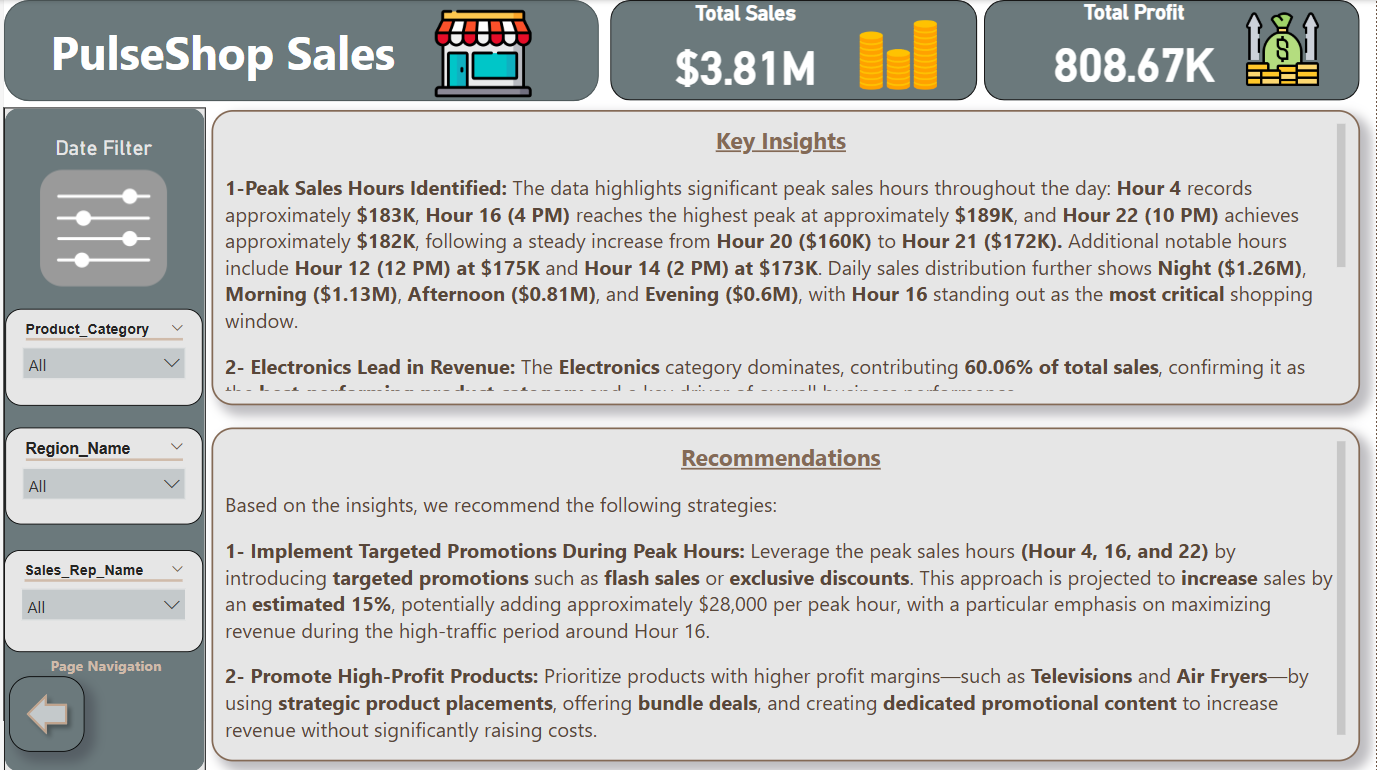

The page's visual inventory and layout, read from the dashboard file:
{"tool":"powerbi","page":{"name":"Insights & Recommendations","canvas":[1280,720],"ordinal":3},"visuals":[{"type":"shape","box":[0,0,554.3,94.3],"z":0,"group":"g3"},{"type":"shape","box":[564.1,0,342.5,93.8],"z":0,"group":"g2"},{"type":"shape","box":[914,0.4,350,93.6],"z":0,"group":"g1"},{"type":"shape","box":[0,100,188,620],"z":0},{"type":"group","id":"g1","title":"Group 1","box":[913.8,0,350,93.8],"z":1000},{"type":"card","title":"Total Profit","fields":{"Values":["Sum(Fact_Orders.Profit)"]},"box":[913.8,0,280,90.3],"z":1000,"group":"g1"},{"type":"card","title":"Total Sales","fields":{"Values":["Dax_meas.Total_Sales"]},"box":[558.8,1.2,264.3,95.1],"z":1000,"group":"g2"},{"type":"textbox","box":[38.6,14.3,381.4,88.6],"z":1000,"group":"g3"},{"type":"image","box":[338.6,0,215.7,100],"z":2000,"group":"g3"},{"type":"group","id":"g2","title":"Group 1","box":[558.8,0,347.8,96.3],"z":2000},{"type":"slicer","fields":{"Values":["Dim_Products.Product_Category"]},"box":[1.2,287.5,184.1,90.2],"z":3000},{"type":"slicer","fields":{"Values":["Dim_Regions.Region_Name"]},"box":[1.2,398.2,184.1,90.2],"z":4000},{"type":"slicer","fields":{"Values":["Dim_Sales_Reps.Sales_Rep_Name"]},"box":[0,512.5,185.3,95],"z":5000},{"type":"shape","box":[4.3,630,70,70],"z":6000},{"type":"image","box":[762.9,14.3,141.4,74.3],"z":7000},{"type":"image","box":[1120,5.7,144.3,80],"z":8000},{"type":"image","title":"Date Filter","box":[0,127.1,185.7,150],"z":9000},{"type":"group","id":"g3","title":"Group 3","box":[0,0,554.3,102.9],"z":10000},{"type":"textbox","box":[193.8,102.5,1070,275],"z":12000},{"type":"textbox","box":[193.8,398.8,1070,311.2],"z":13000},{"type":"textbox","box":[38.8,606.2,128.8,27.5],"z":14000}]}

Visuals, with their boxes in screenshot pixels (x1, y1, x2, y2), scaled from the page's 1280x720 canvas onto the 1377x770 screenshot:
shape: 0:0:596:101
shape: 607:0:975:100
shape: 983:0:1360:101
shape: 0:107:202:769
"Group 1" group: 983:0:1360:100
"Total Profit" card: 983:0:1284:97
"Total Sales" card: 601:1:885:103
textbox: 42:15:452:110
image: 364:0:596:107
"Group 1" group: 601:0:975:103
slicer - Dim_Products.Product_Category: 1:307:199:404
slicer - Dim_Regions.Region_Name: 1:426:199:522
slicer - Dim_Sales_Reps.Sales_Rep_Name: 0:548:199:650
shape: 5:674:80:749
image: 821:15:973:95
image: 1205:6:1360:92
"Date Filter" image: 0:136:200:296
"Group 3" group: 0:0:596:110
textbox: 208:110:1360:404
textbox: 208:426:1360:759
textbox: 42:648:180:678
